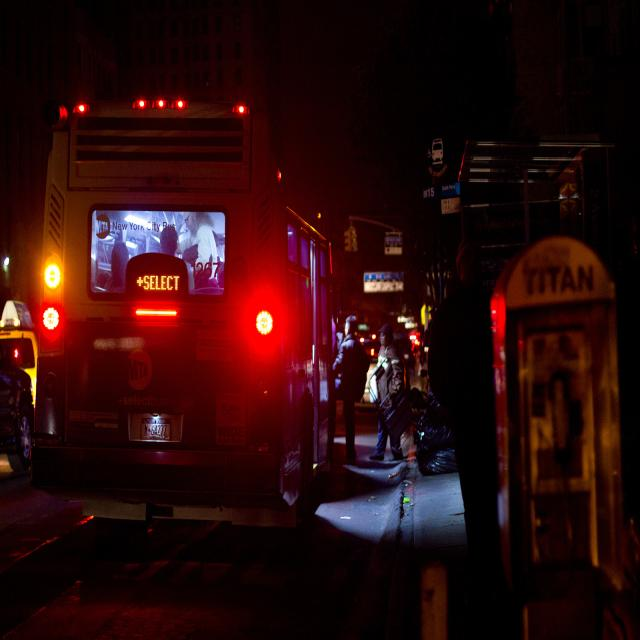Bus: (34, 65, 343, 546)
People: (431, 232, 518, 601), (372, 310, 424, 492), (331, 300, 362, 473), (187, 178, 225, 306), (154, 212, 187, 295), (107, 221, 130, 299)
car: (0, 292, 44, 476)
